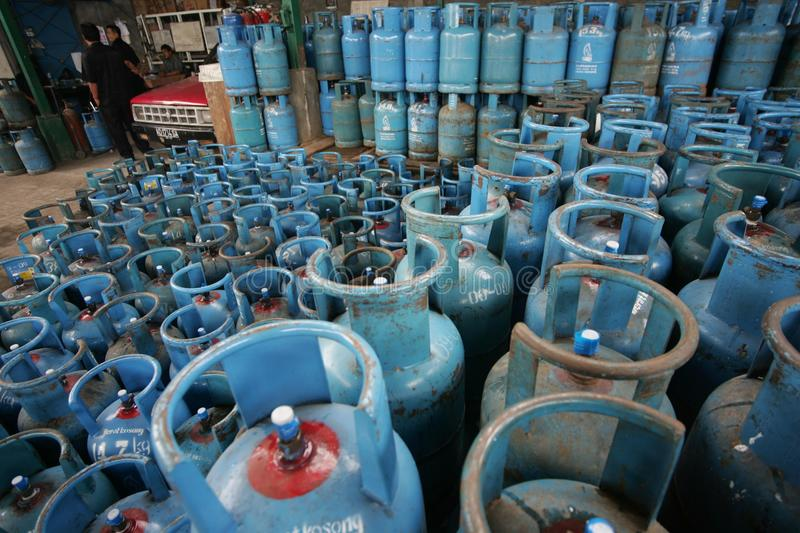blue_gas: (154, 323, 427, 533), (477, 263, 706, 501), (454, 391, 694, 533), (311, 241, 465, 435), (523, 201, 681, 368), (699, 299, 800, 533), (681, 211, 800, 395), (401, 184, 517, 351), (468, 157, 577, 303), (69, 359, 190, 488), (36, 459, 188, 533), (1, 427, 102, 533), (1, 353, 117, 443), (2, 314, 89, 411), (93, 292, 177, 387), (163, 308, 246, 390), (723, 1, 786, 95), (234, 269, 307, 339), (666, 1, 716, 97), (566, 4, 615, 99), (522, 1, 571, 95), (435, 1, 484, 94), (614, 2, 663, 95), (126, 247, 193, 312), (75, 246, 145, 306), (266, 199, 352, 247), (1, 256, 66, 319), (299, 164, 394, 207), (481, 2, 523, 95), (172, 262, 238, 319), (180, 201, 256, 250), (21, 226, 81, 286), (74, 203, 142, 253), (362, 84, 406, 157), (217, 23, 257, 102), (320, 82, 364, 153), (228, 163, 299, 206), (405, 8, 439, 93), (149, 157, 213, 200), (306, 8, 342, 82), (254, 23, 291, 94), (371, 8, 402, 91), (263, 94, 301, 154), (231, 94, 266, 155), (341, 14, 371, 85), (22, 199, 74, 238), (86, 167, 139, 205), (14, 130, 50, 175), (83, 113, 109, 157)
